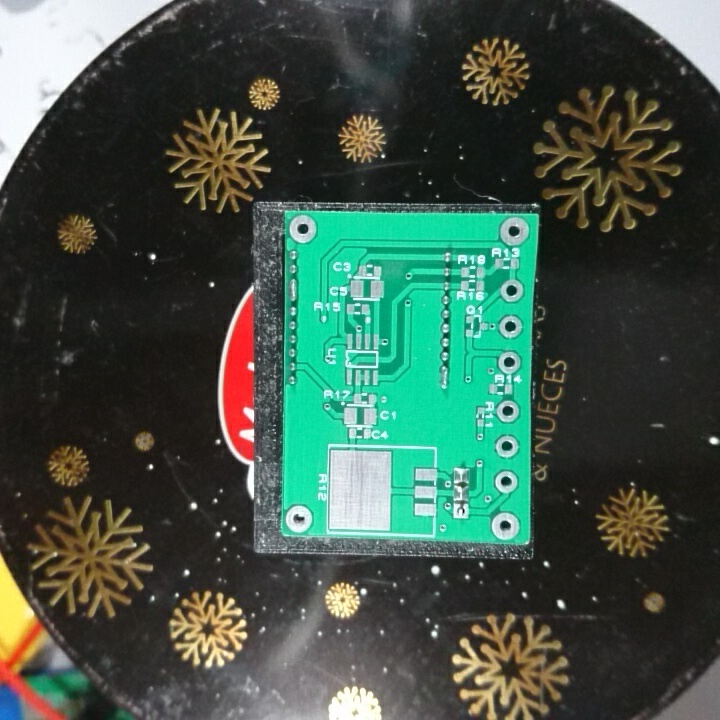F: (496, 216, 532, 251), (285, 212, 319, 246), (489, 510, 522, 541), (284, 502, 315, 534), (495, 346, 525, 377), (493, 398, 523, 428), (496, 313, 525, 343), (493, 432, 521, 462), (491, 469, 521, 497), (499, 278, 525, 306), (450, 501, 471, 522)
P: (436, 363, 453, 392), (286, 276, 303, 303)
